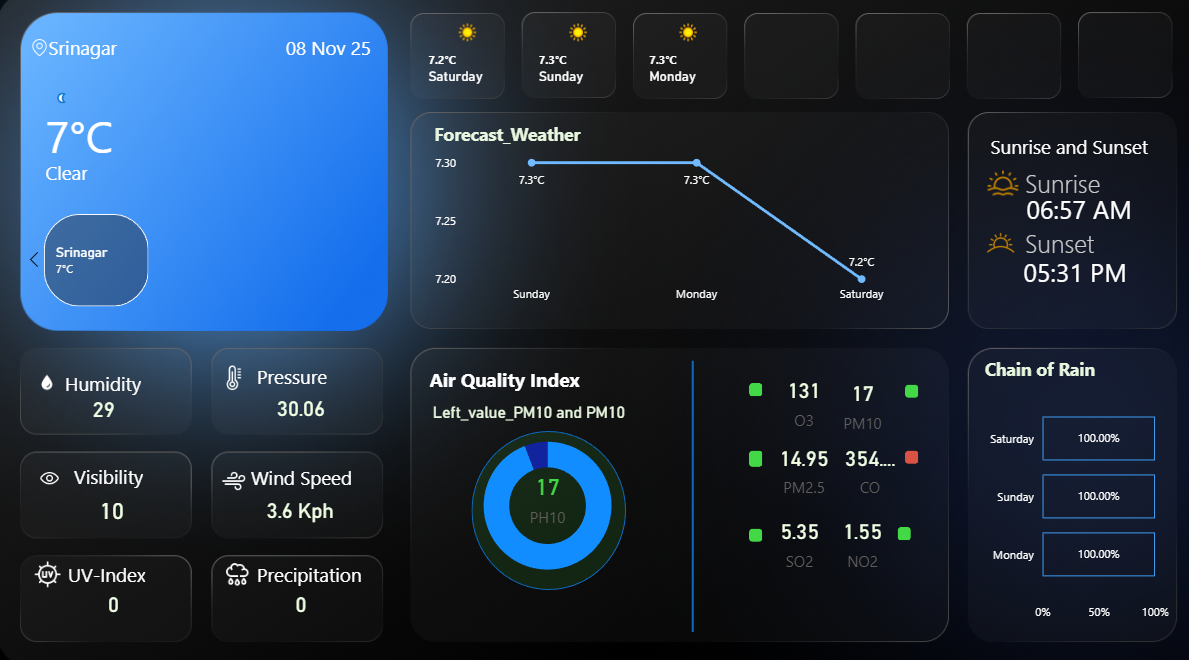

This screenshot's page, from the dashboard's own definition file:
{"tool":"powerbi","page":{"name":"Page 1","canvas":[1280,720],"ordinal":0},"visuals":[{"type":"shape","box":[504.2,464.5,163.8,168.6],"z":0},{"type":"advancedSlicerVisual","fields":{"Values":["Locations.location.name"]},"box":[25.4,229,399.2,108.2],"z":1000},{"type":"shape","box":[52.5,92.3,149.5,116.1],"z":2000},{"type":"shape","box":[52.5,151.1,138.4,77.9],"z":3000},{"type":"shape","box":[259.3,19.1,138.4,77.9],"z":4000},{"type":"shape","box":[55.7,19.1,138.4,77.9],"z":5000},{"type":"image","box":[31.8,38.2,28.6,39.8],"z":6000},{"type":"cardVisual","fields":{"Data":["Min(Current.current.condition.icon)"]},"box":[31.8,76.3,81.1,74.8],"z":7000},{"type":"shape","box":[73.2,386.5,98.6,55.7],"z":8000},{"type":"shape","box":[276.8,386.5,101.8,39.8],"z":9000},{"type":"shape","box":[270.4,497.9,120.9,30.2],"z":10000},{"type":"shape","box":[276.8,596.5,120.9,39.8],"z":11000},{"type":"shape","box":[82.7,485.1,81.1,55.7],"z":12000},{"type":"shape","box":[76.3,596.5,106.6,39.8],"z":13000},{"type":"image","box":[35,399.2,38.2,27],"z":14000},{"type":"image","box":[233.8,389.7,36.6,36.6],"z":15000},{"type":"image","box":[39.8,491.5,33.4,46.1],"z":16000},{"type":"image","box":[233.8,497.9,36.6,39.8],"z":17000},{"type":"image","box":[33.4,596.5,42.9,39.8],"z":18000},{"type":"image","box":[225.9,596.5,60.4,39.8],"z":19000},{"type":"card","fields":{"Values":["Sum(Current.current.humidity)"]},"box":[84.3,415.1,58.9,52.5],"z":20000},{"type":"card","fields":{"Values":["Sum(Current.current.pressure_in)"]},"box":[287.9,413.6,70,52.5],"z":21000},{"type":"card","fields":{"Values":["_Measures.Wind_Speed"]},"box":[276.8,513.8,90.7,68.4],"z":22000},{"type":"card","fields":{"Values":["Sum(Current.current.vis_km)"]},"box":[87.5,521.7,70,52.5],"z":23000},{"type":"card","fields":{"Values":["Sum(Current.current.uv)"]},"box":[89.1,621.9,70,52.5],"z":24000},{"type":"card","fields":{"Values":["Sum(Current.current.precip_in)"]},"box":[287.9,621.9,70,52.5],"z":25000},{"type":"advancedSlicerVisual","fields":{"Values":["Forecast_Day.Day_Name"]},"box":[440.6,19.1,823.9,95.4],"z":26000},{"type":"lineChart","title":"Forecast_Weather","fields":{"Y":["Sum(Forecast_Day.forecast.forecastday.day.avgtemp_c)"],"Category":["Forecast_Day.Day_Name"]},"box":[459.7,136.8,532.9,200.4],"z":27000},{"type":"shape","box":[1054.6,135.2,170.2,55.7],"z":28000},{"type":"shape","box":[1092.7,200.4,135.2,57.3],"z":29000},{"type":"shape","box":[1089.6,265.6,135.2,60.4],"z":30000},{"type":"shape","box":[1091.2,246.5,135.2,36.6],"z":31000},{"type":"shape","box":[1091.2,182.9,135.2,36.6],"z":32000},{"type":"image","box":[1043.4,179.7,49.3,42.9],"z":33000},{"type":"image","box":[1030.7,240.2,70,49.3],"z":34000},{"type":"hundredPercentStackedBarChart","title":"Chain of Rain","fields":{"Y":["Sum(Forecast_Day.forecast.forecastday.day.daily_chance_of_rain)","Current.Left_value_Rain"],"Category":["Forecast_Day.Day_Name"]},"box":[1043.4,386.5,205.2,287.9],"z":35000},{"type":"card","fields":{"Values":["Sum(Current.current.air_quality.pm10)"]},"box":[881.2,400.8,74.8,68.4],"z":36000},{"type":"shape","box":[459.7,389.7,162.2,39.8],"z":37000},{"type":"card","fields":{"Values":["Sum(Current.current.air_quality.co)"]},"box":[889.2,469.2,74.8,68.4],"z":38000},{"type":"card","fields":{"Values":["Sum(Current.current.air_quality.no2)"]},"box":[881.2,547.2,74.8,68.4],"z":39000},{"type":"card","fields":{"Values":["Sum(Current.current.air_quality.o3)"]},"box":[819.2,397.7,74.8,68.4],"z":40000},{"type":"card","fields":{"Values":["Sum(Current.current.air_quality.pm2_5)"]},"box":[819.2,469.2,74.8,68.4],"z":41000},{"type":"card","fields":{"Values":["Sum(Current.current.air_quality.so2)"]},"box":[814.4,547.2,74.8,68.4],"z":42000},{"type":"shape","box":[798.5,413.6,14.3,14.3],"z":43000},{"type":"shape","box":[798.5,485.1,14.3,17.5],"z":44000},{"type":"shape","box":[798.5,567.8,14.3,14.3],"z":45000},{"type":"shape","box":[963.9,415.1,14.3,14.3],"z":46000},{"type":"shape","box":[956,566.3,14.3,14.3],"z":47000},{"type":"shape","box":[963.9,485.1,14.3,14.3],"z":48000},{"type":"shape","box":[685.6,389.7,106.6,287.9],"z":49000},{"type":"card","fields":{"Values":["Sum(Current.current.air_quality.pm10)"]},"box":[547.2,499.5,74.8,68.4],"z":50000},{"type":"donutChart","fields":{"Y":["_Measures.Left_value_PM10","Sum(Current.current.air_quality.pm10)"]},"box":[458.1,434.2,252.9,198.8],"z":51000}]}

Visuals, with their boxes in screenshot pixels (x1, y1, x2, y2), scaled from the page's 1280x720 canvas onto the 1189x660 screenshot:
shape: (468,426,621,580)
advancedSlicerVisual - Locations.location.name: (24,210,394,309)
shape: (49,85,188,191)
shape: (49,139,177,210)
shape: (241,18,369,89)
shape: (52,18,180,89)
image: (30,35,56,72)
cardVisual - Min(Current.current.condition.icon): (30,70,105,139)
shape: (68,354,160,405)
shape: (257,354,352,391)
shape: (251,456,363,484)
shape: (257,547,369,583)
shape: (77,445,152,496)
shape: (71,547,170,583)
image: (33,366,68,391)
image: (217,357,251,391)
image: (37,451,68,493)
image: (217,456,251,493)
image: (31,547,71,583)
image: (210,547,266,583)
card - Sum(Current.current.humidity): (78,381,133,429)
card - Sum(Current.current.pressure_in): (267,379,332,427)
card - _Measures.Wind_Speed: (257,471,341,534)
card - Sum(Current.current.vis_km): (81,478,146,526)
card - Sum(Current.current.uv): (83,570,148,618)
card - Sum(Current.current.precip_in): (267,570,332,618)
advancedSlicerVisual - Forecast_Day.Day_Name: (409,18,1175,105)
"Forecast_Weather" lineChart: (427,125,922,309)
shape: (980,124,1138,175)
shape: (1015,184,1141,236)
shape: (1012,243,1138,299)
shape: (1014,226,1139,260)
shape: (1014,168,1139,201)
image: (969,165,1015,204)
image: (957,220,1022,265)
"Chain of Rain" hundredPercentStackedBarChart: (969,354,1160,618)
card - Sum(Current.current.air_quality.pm10): (819,367,888,430)
shape: (427,357,578,394)
card - Sum(Current.current.air_quality.co): (826,430,895,493)
card - Sum(Current.current.air_quality.no2): (819,502,888,564)
card - Sum(Current.current.air_quality.o3): (761,365,830,427)
card - Sum(Current.current.air_quality.pm2_5): (761,430,830,493)
card - Sum(Current.current.air_quality.so2): (757,502,826,564)
shape: (742,379,755,392)
shape: (742,445,755,461)
shape: (742,520,755,534)
shape: (895,381,909,394)
shape: (888,519,901,532)
shape: (895,445,909,458)
shape: (637,357,736,621)
card - Sum(Current.current.air_quality.pm10): (508,458,578,521)
donutChart - _Measures.Left_value_PM10 x Sum(Current.current.air_quality.pm10): (426,398,660,580)
